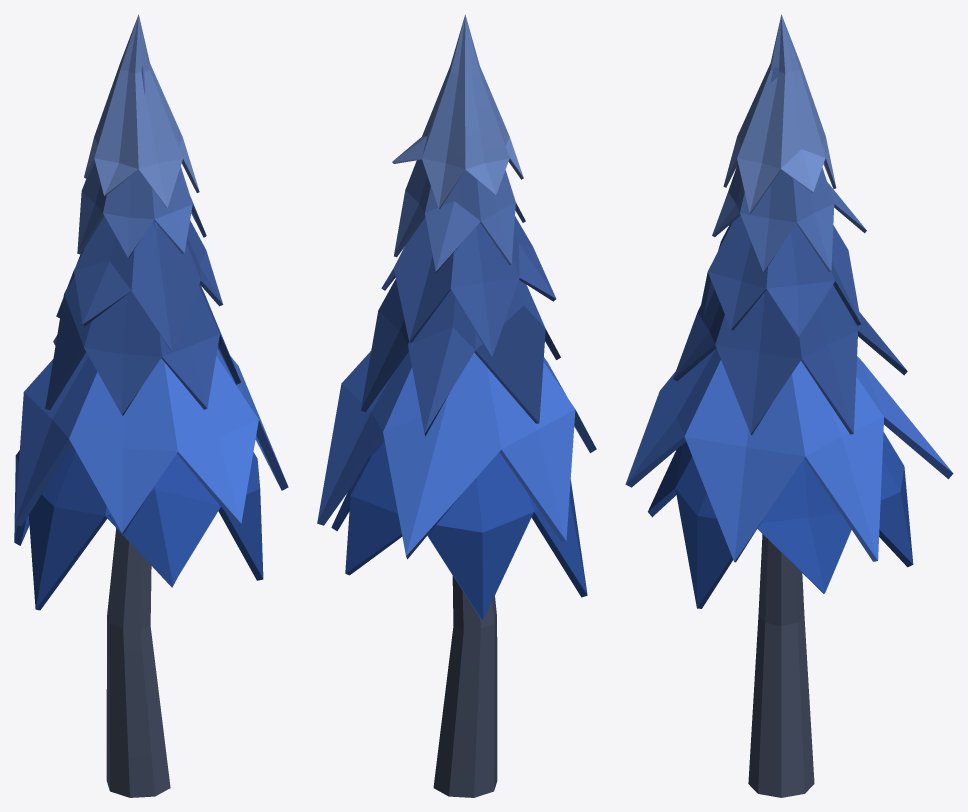
File: pohon1.fbx
3 renders of one model, left to right at view 1: azimuth 30°, elevation 25°; view 2: azimuth 150°, elevation 25°; view 3: azimuth 270°, elevation 25°, orthographic.
Parts seen in each view (by area): view 1: Tree_2_21.001; view 2: Tree_2_21.001; view 3: Tree_2_21.001.
Part boxes in pixels (x1=…): Tree_2_21.001: x1=14, y1=14, x2=288, y2=797; Tree_2_21.001: x1=317, y1=14, x2=596, y2=797; Tree_2_21.001: x1=625, y1=14, x2=953, y2=797.
Size of the model in its own units: 105 by 323 by 125.
